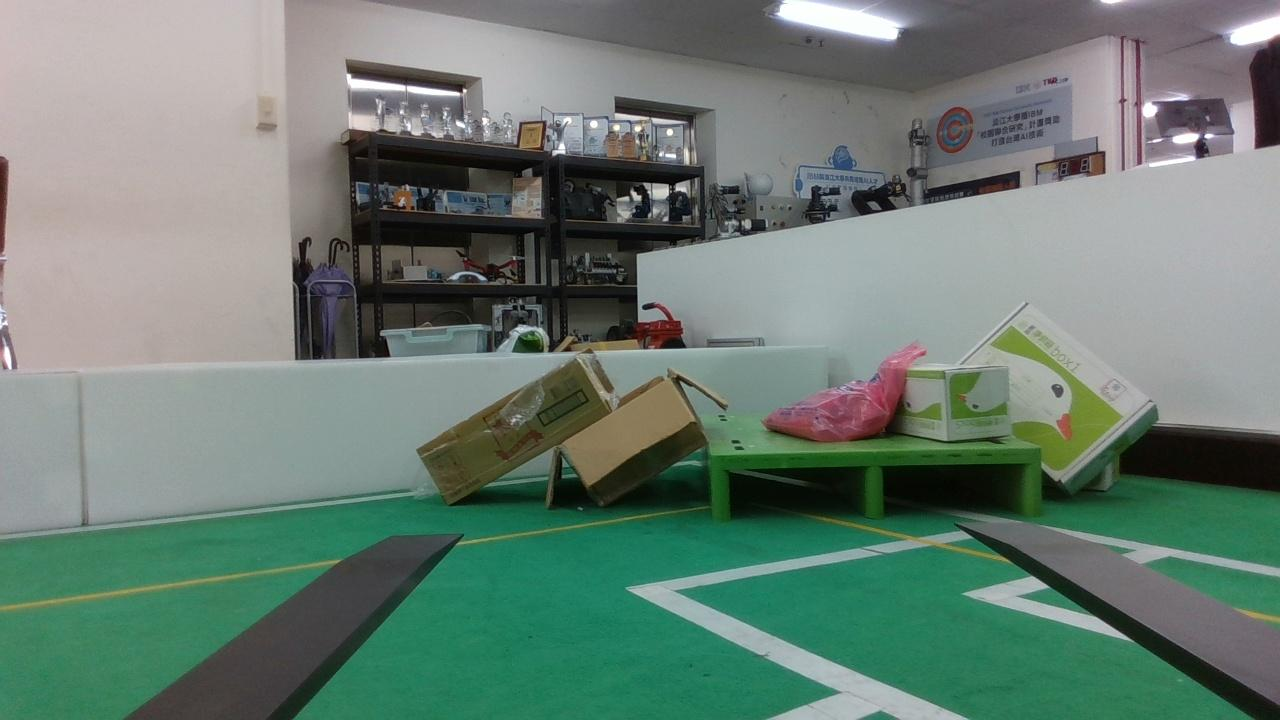Pallet: (708, 448, 1044, 522)
